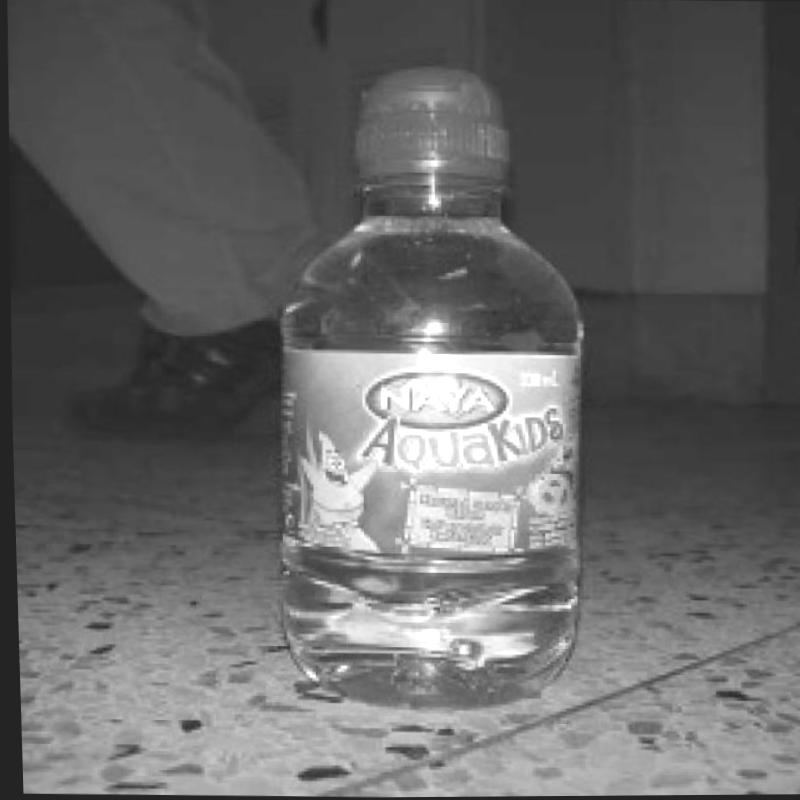botella: (251, 60, 602, 718)
